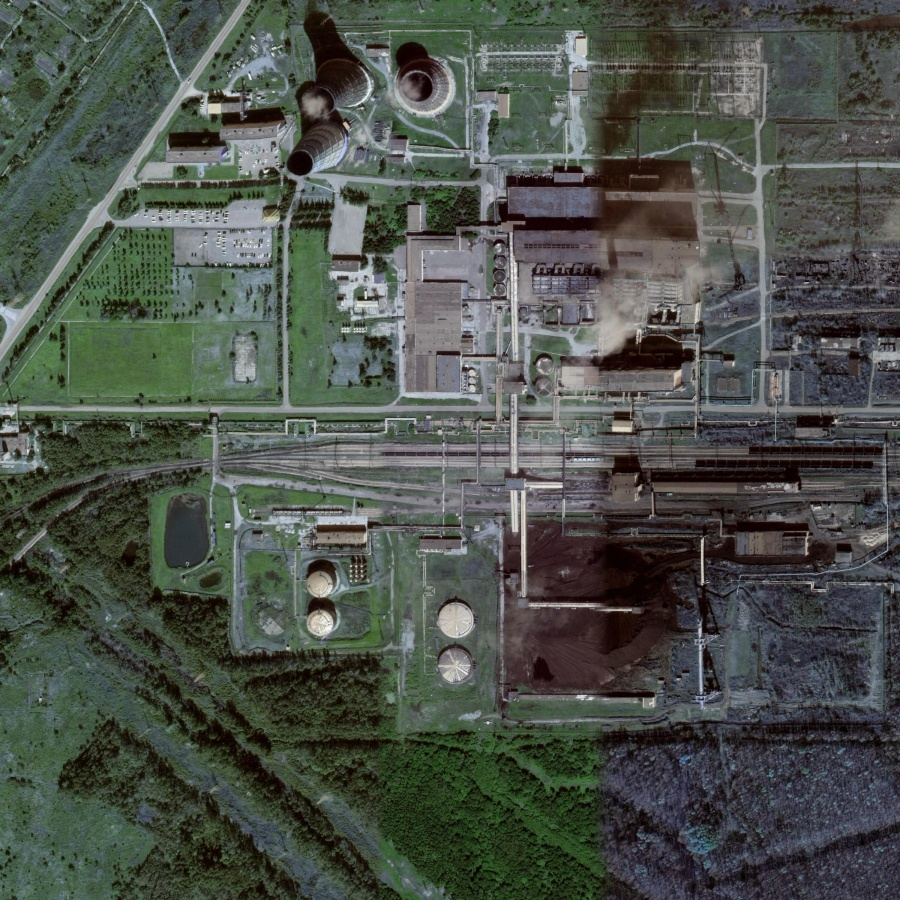PowerPlant: (265, 18, 754, 714)
